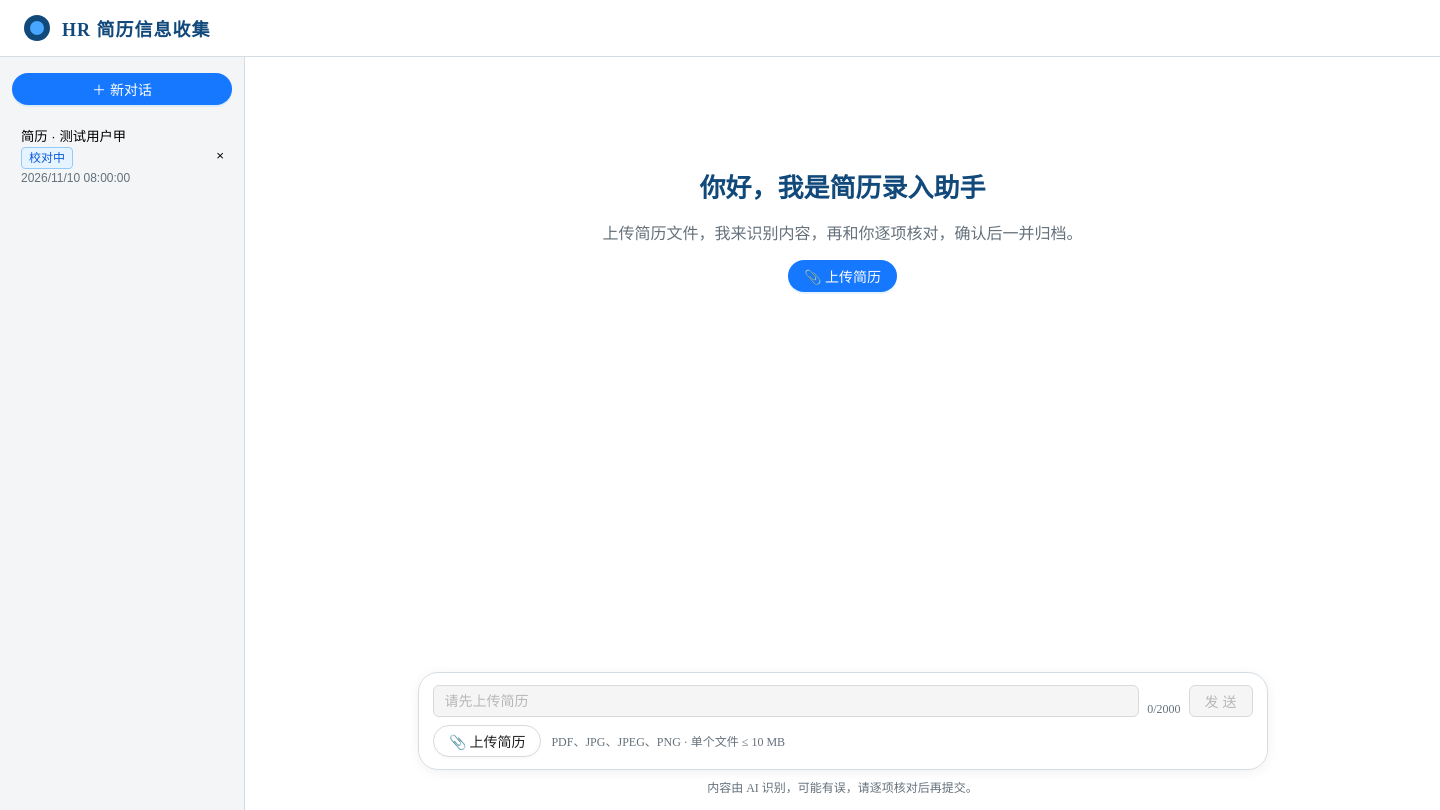
it: new chat clears the view only (TD-12 v2) › with unsubmitted edits asks first: cancel keeps everything, continue clears
Click the button "简历 · 测试用户甲 校对中 2026/11/10 08:00:00" at coordinates (108, 156), box [12,117,204,194]
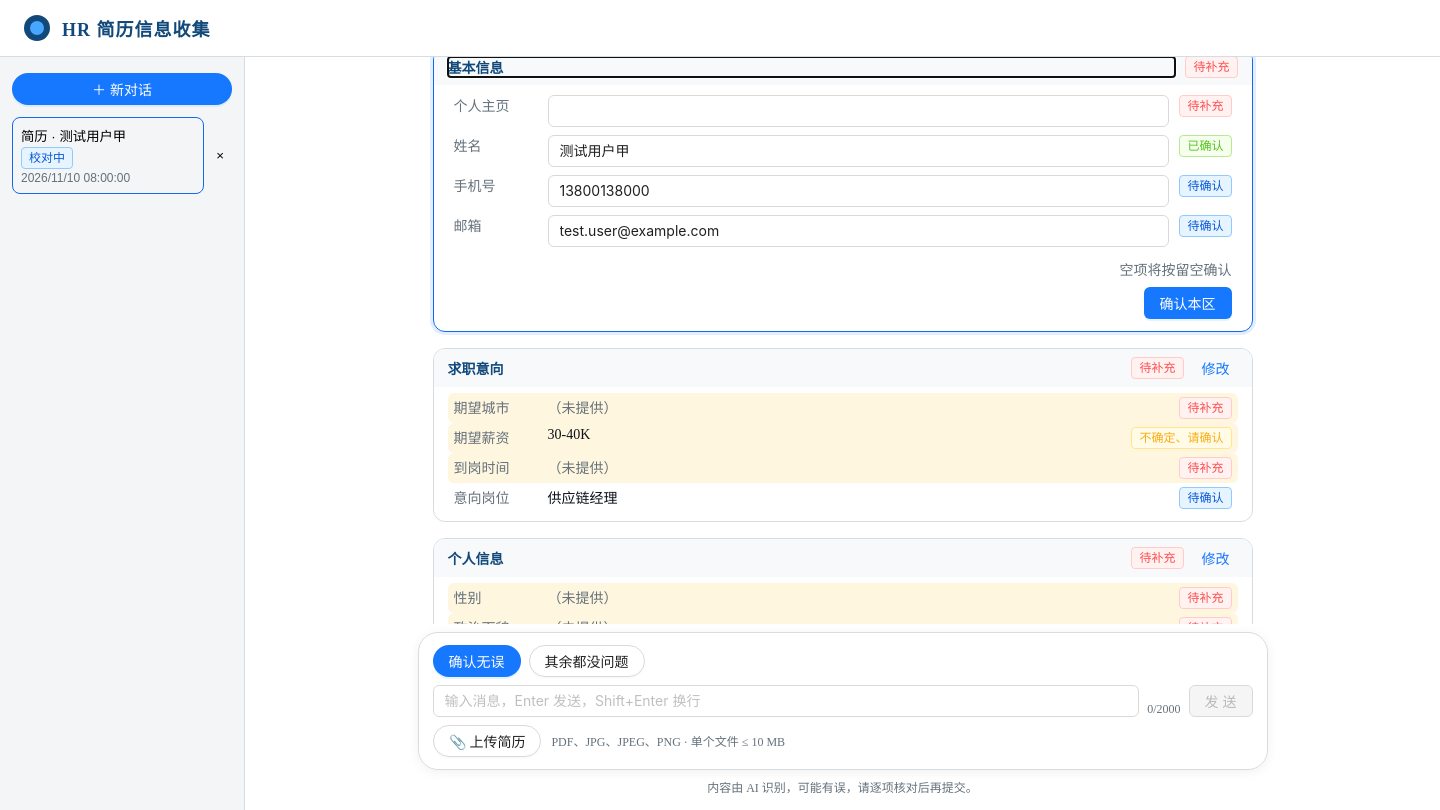
Check: the heading "基本信息" is shown, box [448,61,504,76]
Replace the text in the field labelled "姓名" with "改过的名字" at coordinates (858, 151), box [548,135,1170,167]
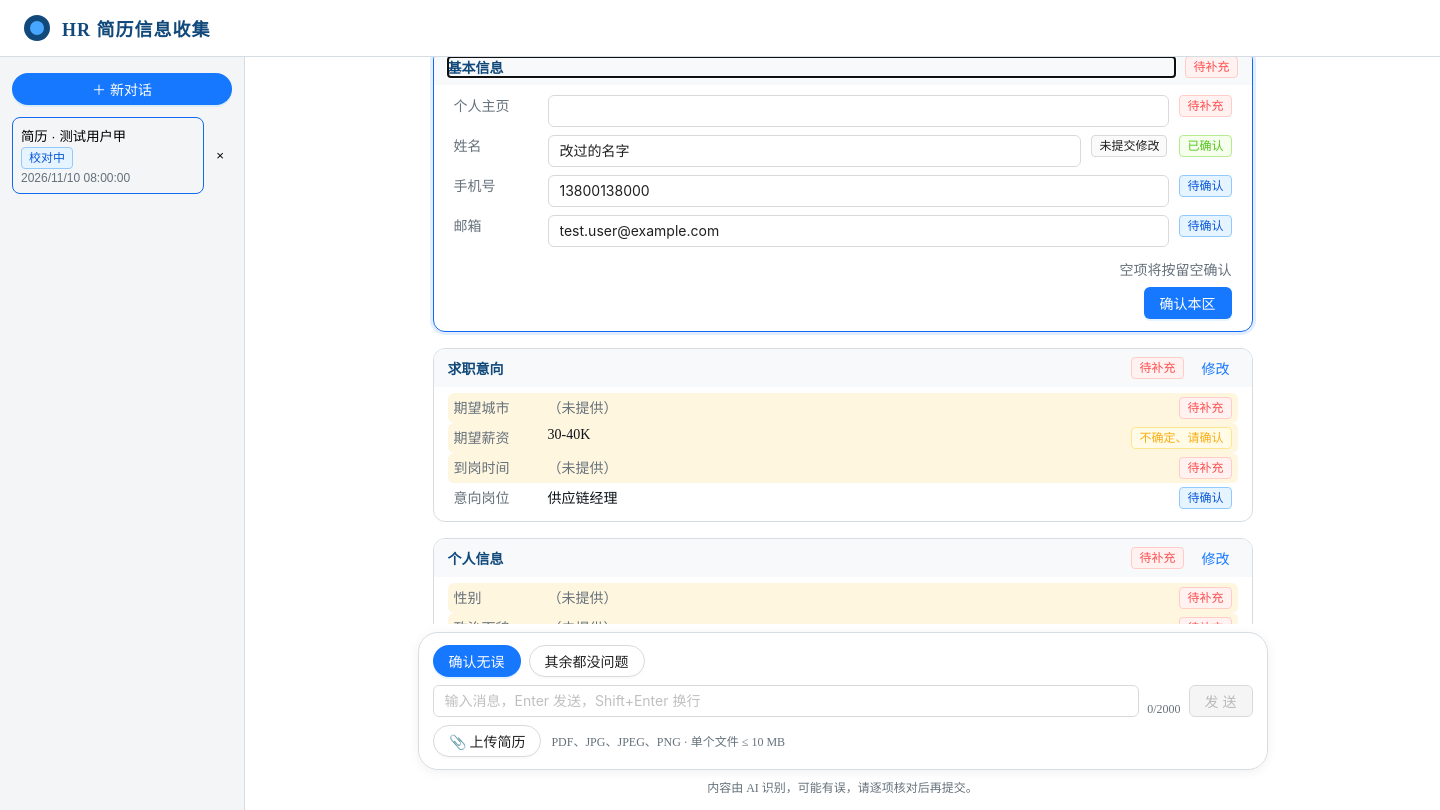
Click the button "＋ 新对话" at coordinates (122, 89), box [12,73,232,105]
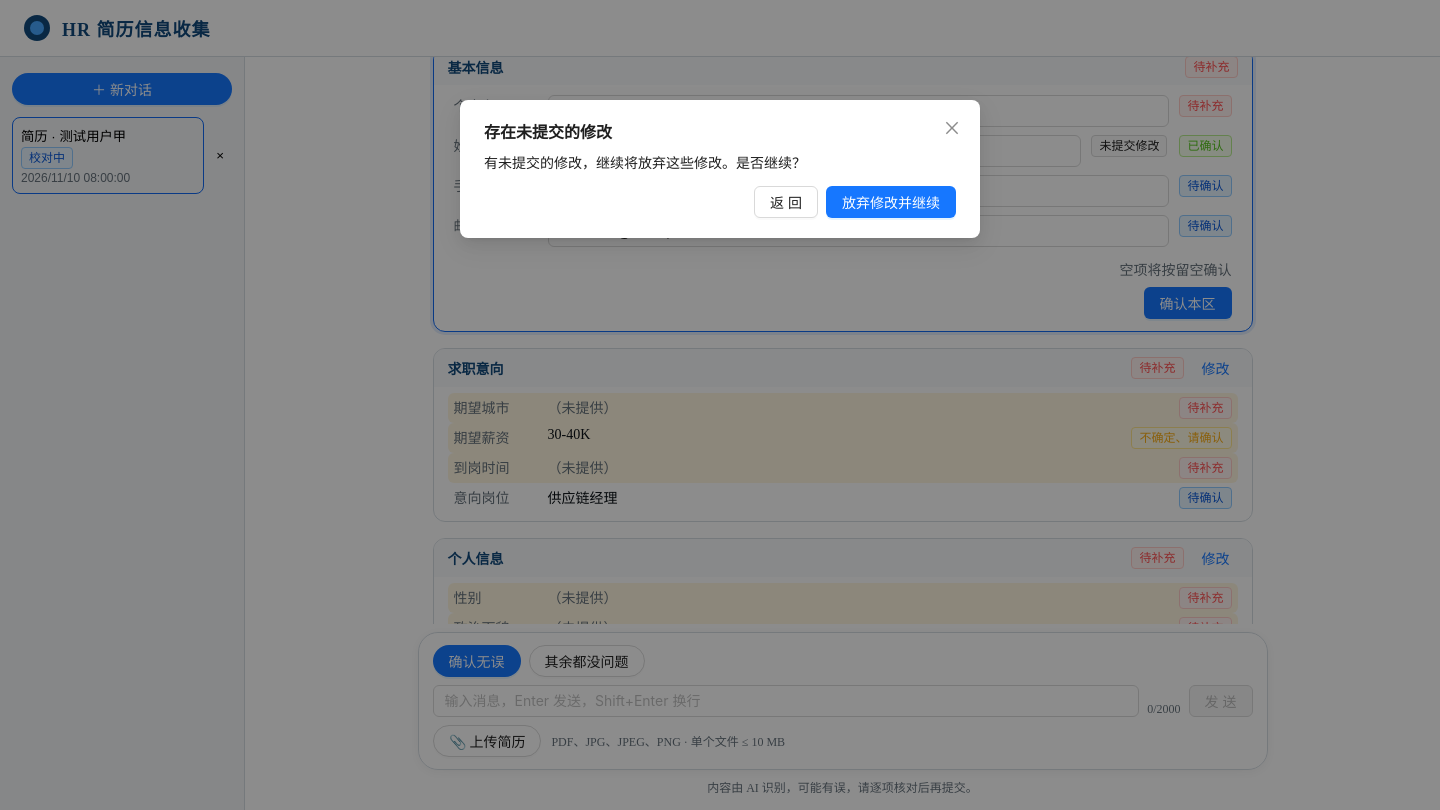
Click the button "返 回" at coordinates (786, 202), box [754,186,818,218]
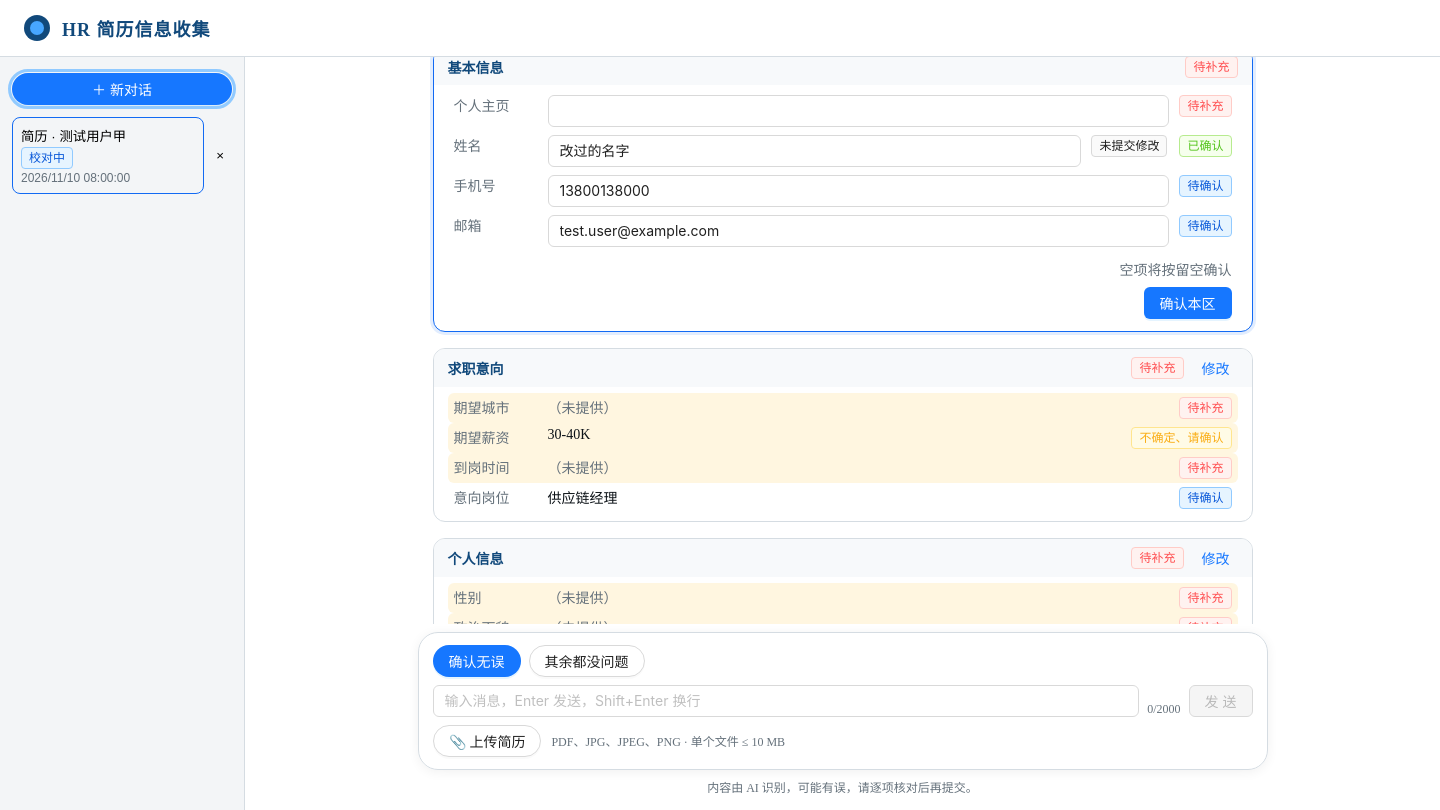
Click the button "＋ 新对话" at coordinates (122, 89), box [12,73,232,105]
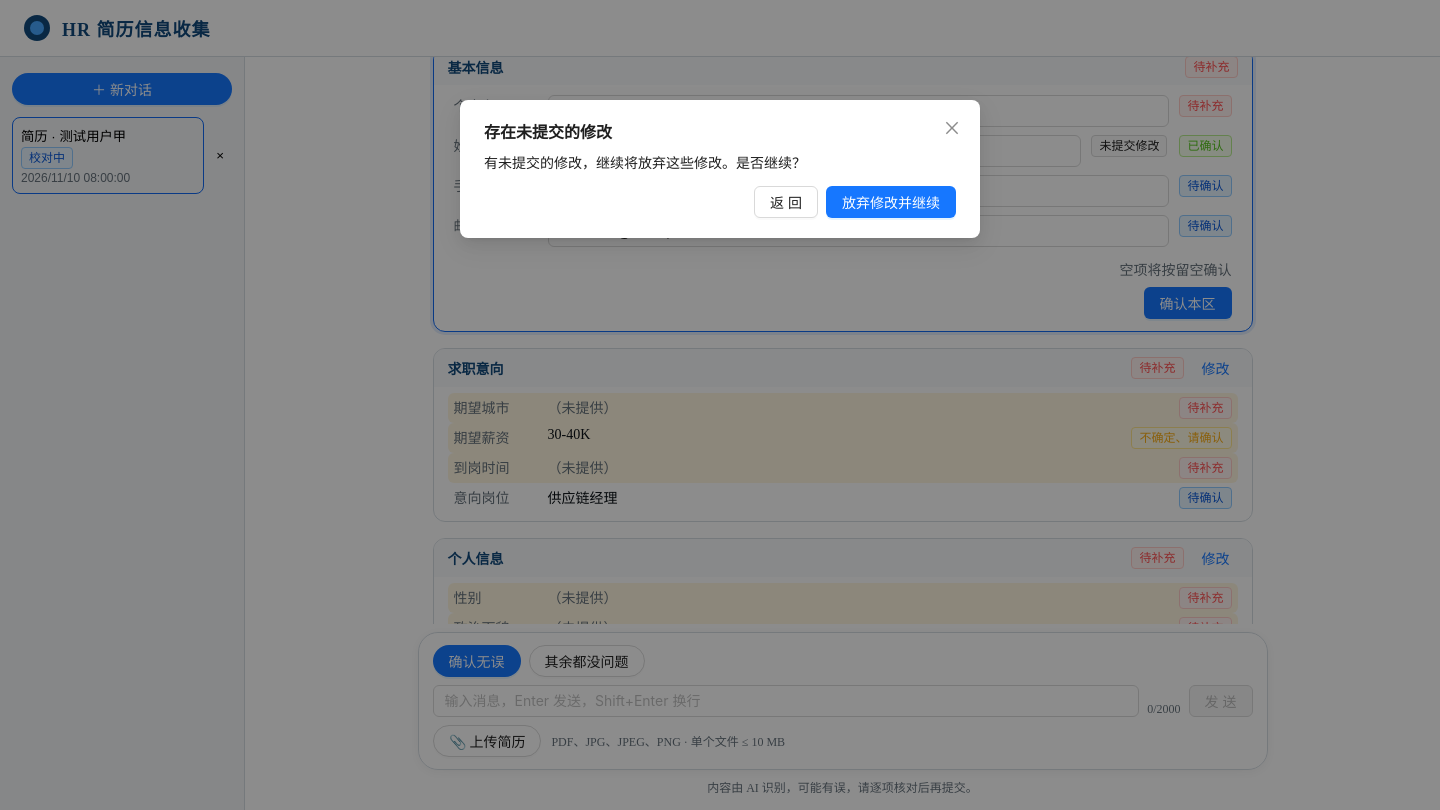
Click the button "放弃修改并继续" at coordinates (891, 202), box [826,186,956,218]
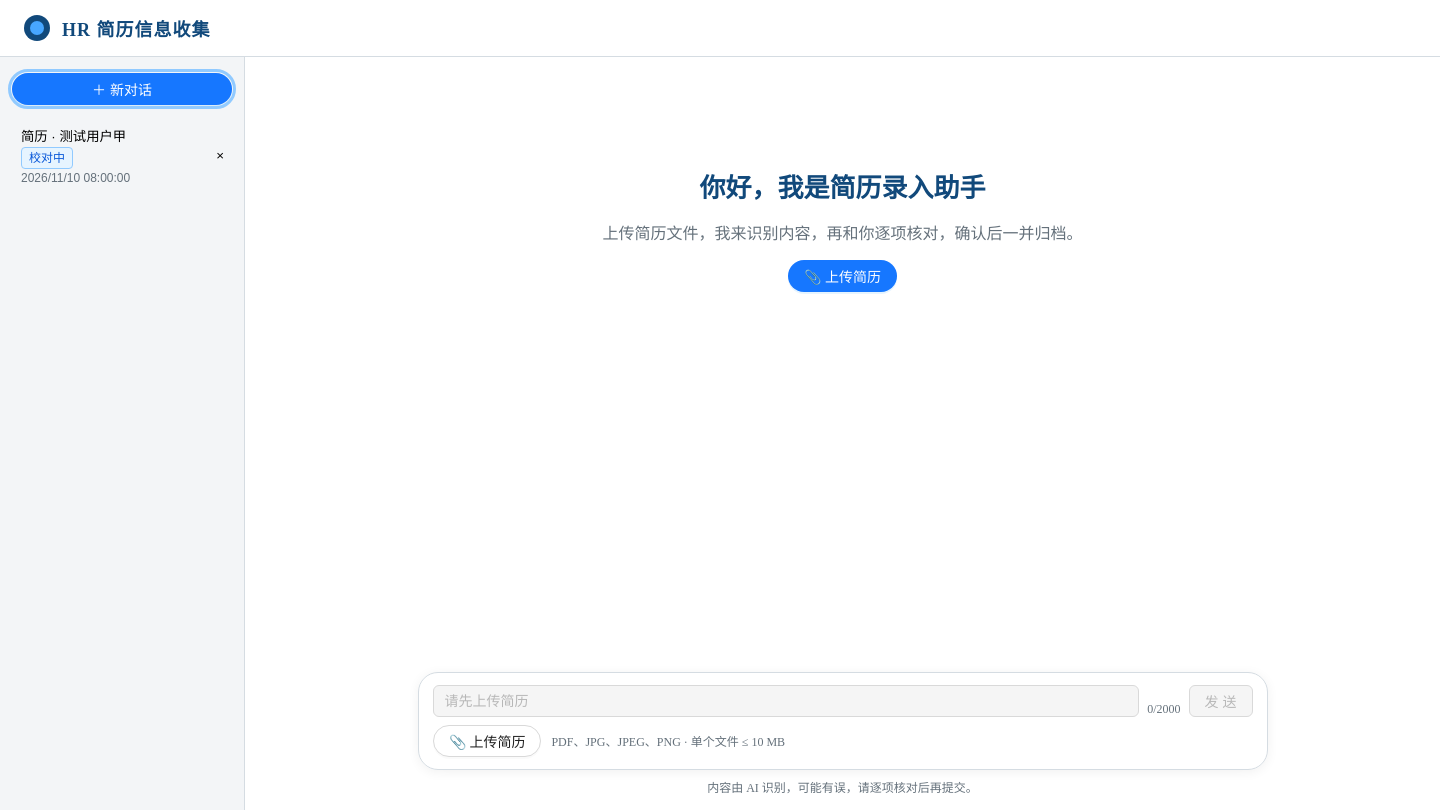
Check: the text "上传简历文件，我来识别内容，再和你逐项核对，确认后一并归档。" is shown, box [602,225,1082,242]
